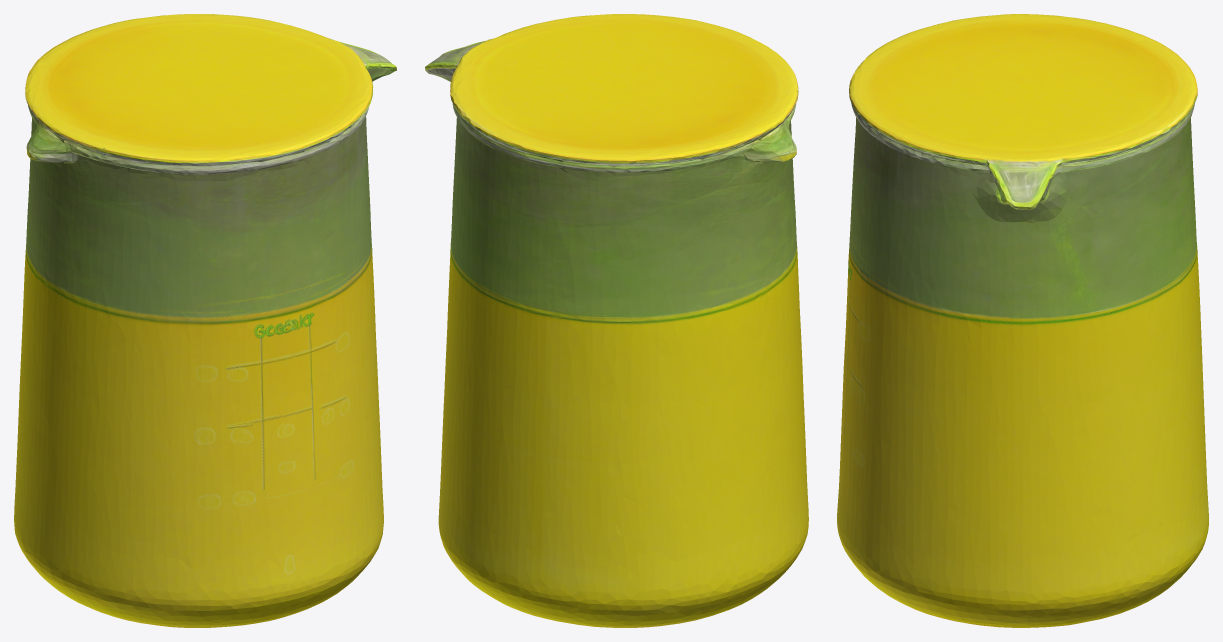
Rendered from Generate_a_beaker_wit_0506050451_texture.fbx.
The picture shows the model from 3 angles, left to right: view 1: azimuth 30°, elevation 25°; view 2: azimuth 150°, elevation 25°; view 3: azimuth 270°, elevation 25°; orthographic projection.
Visible parts, largest first — view 1: temp; view 2: temp; view 3: temp.
Boxes of the visible parts, bbox=[...] form: temp: bbox=[14, 14, 396, 627]; temp: bbox=[425, 14, 808, 627]; temp: bbox=[837, 14, 1208, 627].
Size of the model in its own units: 155 by 197 by 137.
Materials: 1 (1 with a texture image).
